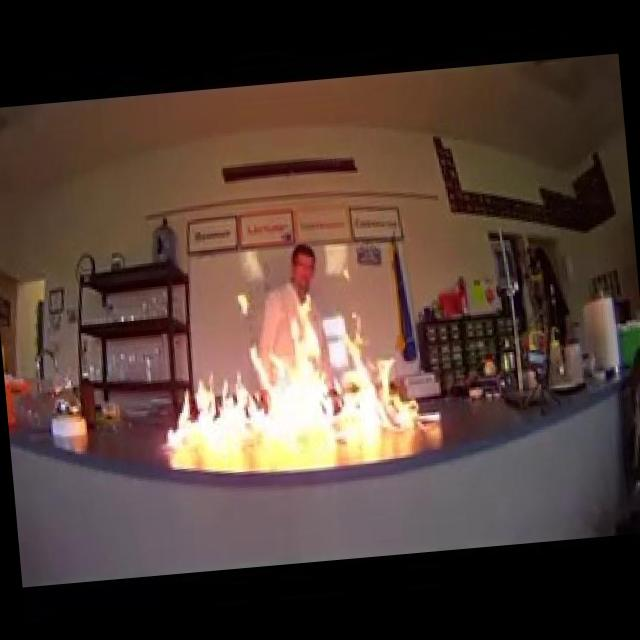Fire: (148, 280, 422, 454)
